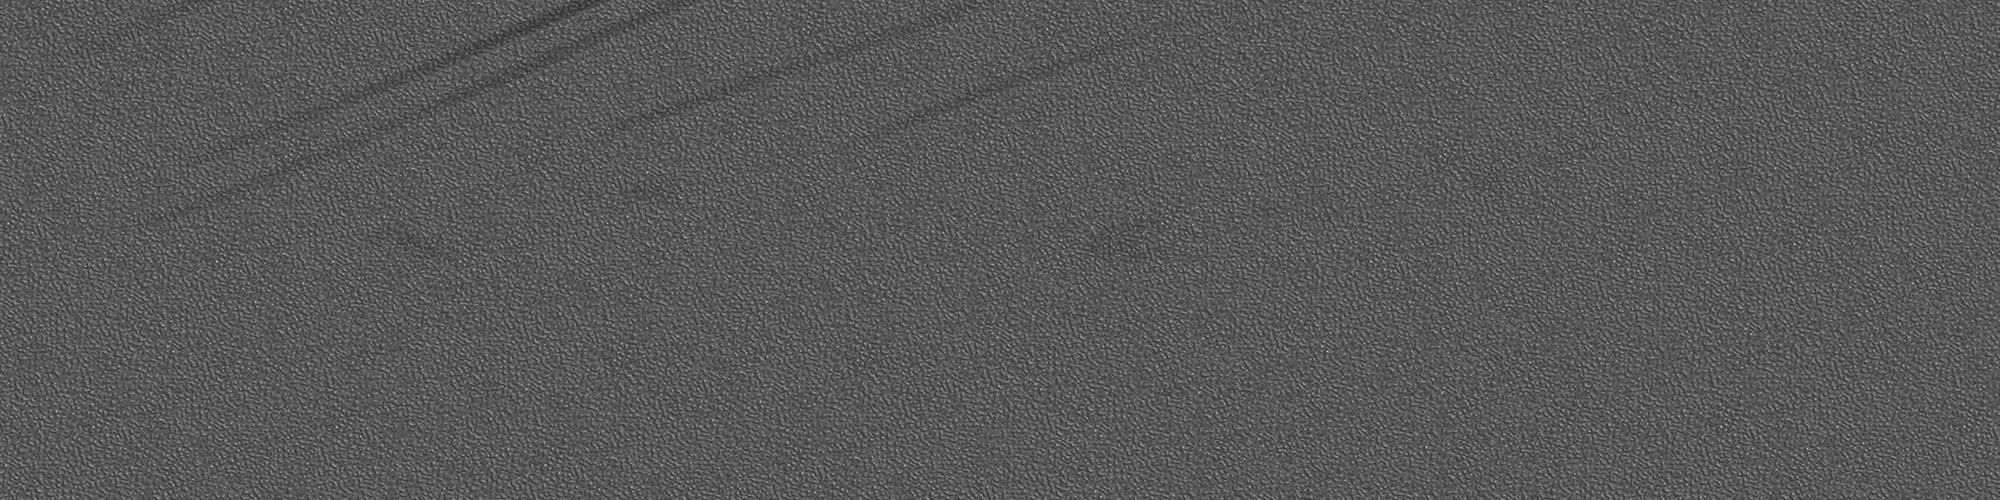Scratches: (138, 5, 1224, 232), (591, 6, 969, 145), (848, 9, 1210, 145), (1082, 193, 1239, 263), (102, 4, 198, 54), (378, 227, 452, 265)
